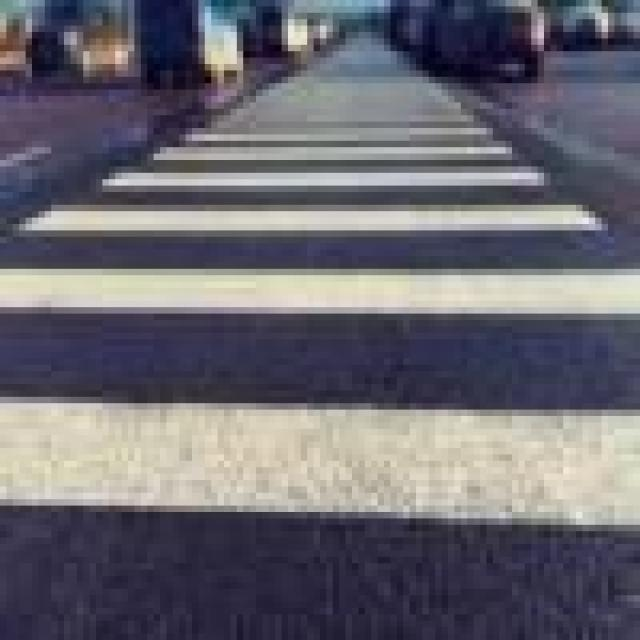crosswalk: (0, 31, 640, 536)
